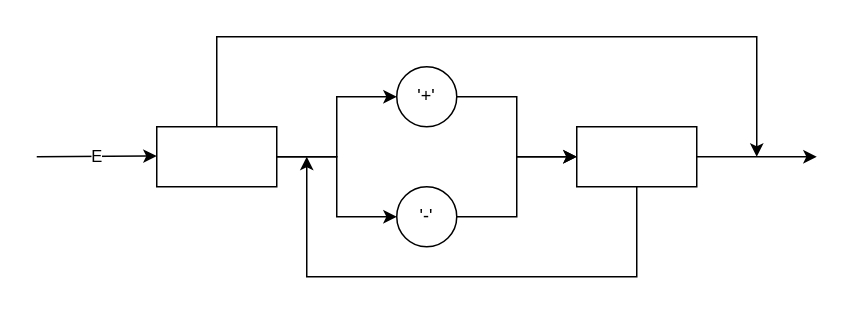
Image size: 855x315. Some labels were removed from this diagram. The centre of each missing label's shape, as x and y in pixels:
"T1" belongs at (x=216, y=156).
"T2" belongs at (x=636, y=156).
